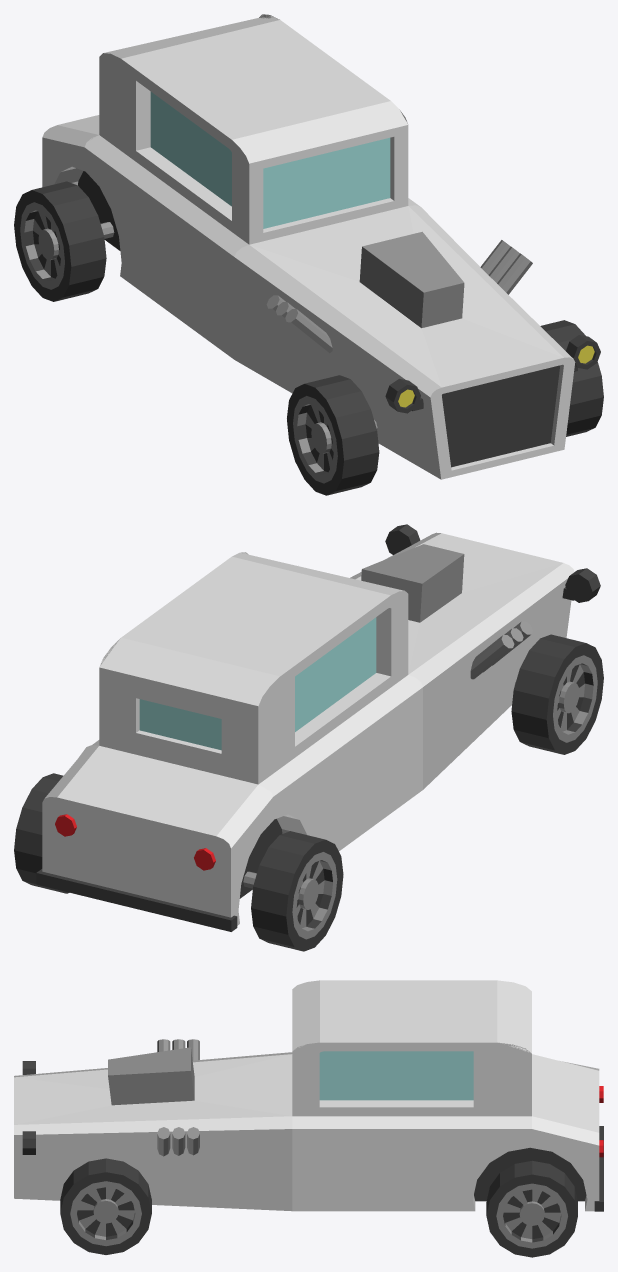
File: HotKnife.fbx
3 renders of one model, top to bottom at view 1: azimuth 30°, elevation 25°; view 2: azimuth 150°, elevation 25°; view 3: azimuth 270°, elevation 25°, orthographic. The views are drawn at different scales.
Visible parts, largest first — view 1: MainColor, Main, RRightTire, FRightTire, FLeftTire; view 2: MainColor, Main, RRightTire, FRightTire, RLeftTire; view 3: MainColor, Main, RLeftTire, FLeftTire.
Part boxes in pixels (<box>): MainColor: <box>42,14,575,479</box>; Main: <box>78,91,600,467</box>; RRightTire: <box>14,181,106,301</box>; FRightTire: <box>287,375,379,495</box>; FLeftTire: <box>540,320,603,436</box>; MainColor: <box>42,532,574,925</box>; Main: <box>36,524,600,931</box>; RRightTire: <box>251,831,343,951</box>; FRightTire: <box>511,634,603,754</box>; RLeftTire: <box>14,773,69,893</box>; MainColor: <box>14,980,599,1211</box>; Main: <box>22,1039,603,1211</box>; RLeftTire: <box>486,1160,577,1257</box>; FLeftTire: <box>60,1158,151,1254</box>.
Bounding box in the file's own units: 144 × 122 × 338.
